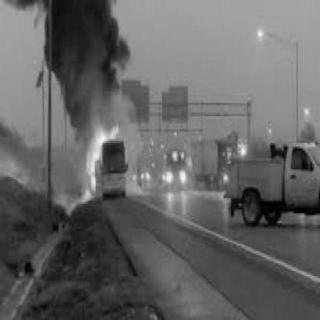Smoke: (40, 1, 127, 100)
other: (165, 156, 188, 186), (136, 166, 156, 182), (238, 139, 245, 155), (257, 26, 265, 40)
